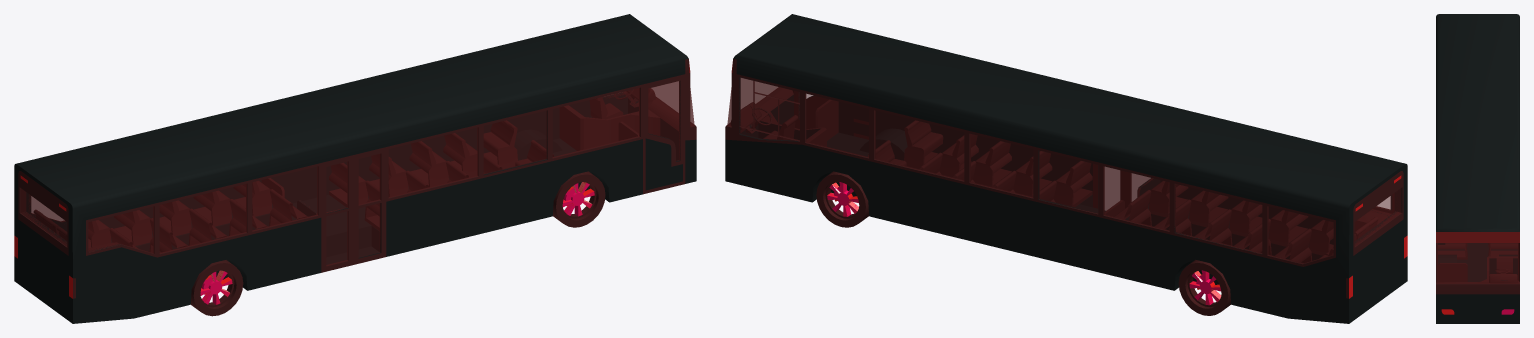
Rendered from SM_Bus_v01_LOD0.FBX.
3 renders of one model, left to right at view 1: azimuth 30°, elevation 25°; view 2: azimuth 150°, elevation 25°; view 3: azimuth 270°, elevation 25°, orthographic. The views are drawn at different scales.
Parts seen in each view (by area): view 1: SM_Bus_v01_LOD0; view 2: SM_Bus_v01_LOD0; view 3: SM_Bus_v01_LOD0.
Boxes of the visible parts, left/top/right/bottom form: SM_Bus_v01_LOD0: left=14, top=14, right=696, bottom=323; SM_Bus_v01_LOD0: left=725, top=14, right=1407, bottom=323; SM_Bus_v01_LOD0: left=1436, top=14, right=1519, bottom=323.
Bounding box in the file's own units: 17.68 × 3.95 × 2.88.
Materials: 2 (2 with a texture image).
